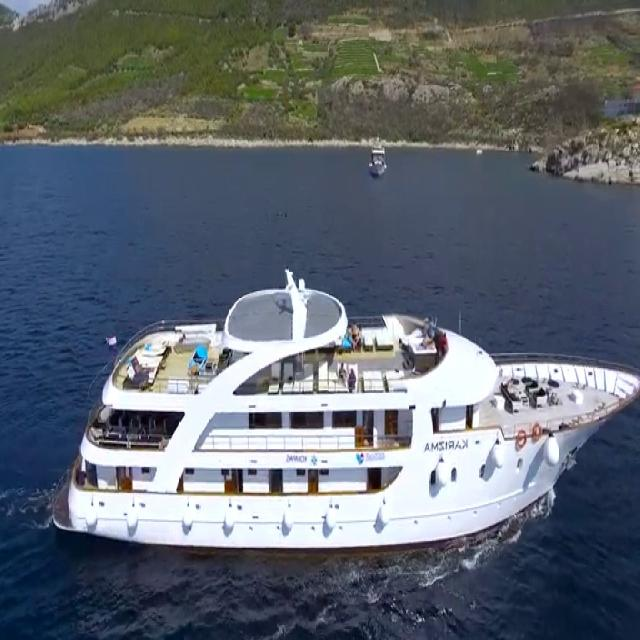houseboat: (367, 142, 388, 182)
passenger ship: (56, 266, 640, 544)
